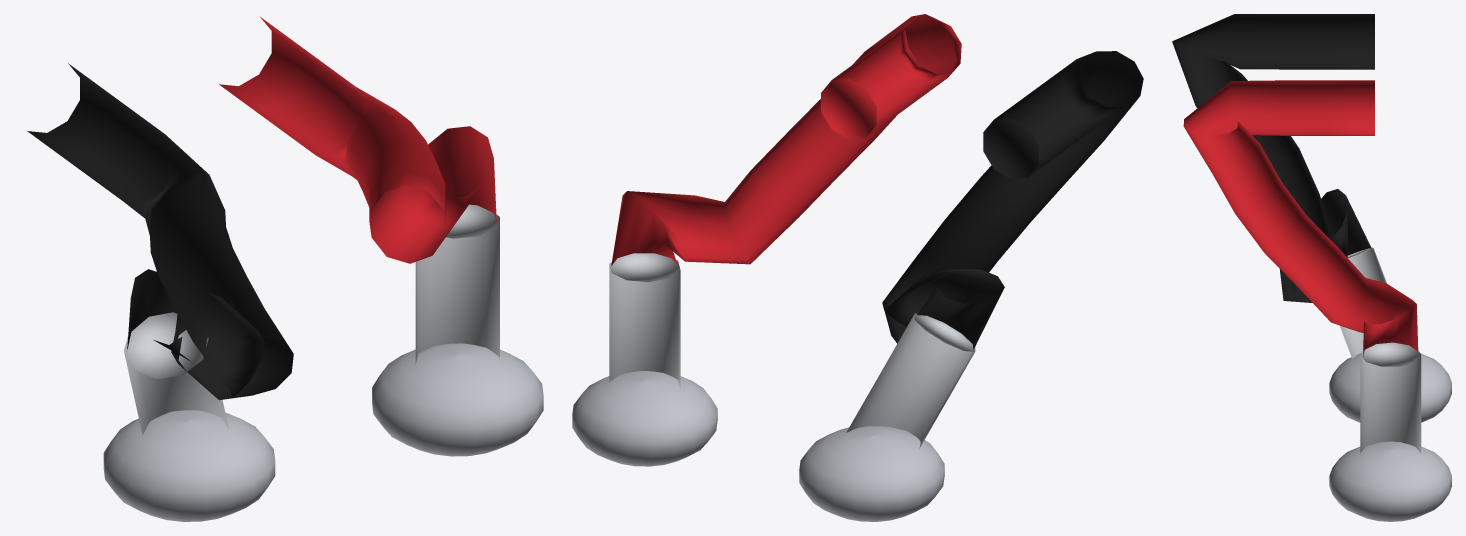
File: body.glb
The picture shows the model from 3 angles, left to right: view 1: azimuth 30°, elevation 25°; view 2: azimuth 150°, elevation 25°; view 3: azimuth 270°, elevation 25°; orthographic projection. The views are drawn at different scales.
Visible parts, largest first — view 1: conductor_p2, conductor_p1, end_board_joint_p1, end_board_joint_p2, end_board_tip_p1, end_board_tip_p2; view 2: conductor_p1, conductor_p2, end_board_joint_p2, end_board_joint_p1, end_board_tip_p2, end_board_tip_p1; view 3: conductor_p1, conductor_p2, end_board_joint_p1, end_board_tip_p1, end_board_joint_p2, end_board_tip_p2.
Part boxes in pixels (x1,y1,x2,y2): conductor_p2: (27, 63, 293, 400); conductor_p1: (219, 17, 496, 263); end_board_joint_p1: (372, 343, 543, 456); end_board_joint_p2: (103, 410, 275, 521); end_board_tip_p1: (415, 204, 499, 364); end_board_tip_p2: (124, 312, 228, 435); conductor_p1: (611, 14, 961, 265); conductor_p2: (882, 51, 1143, 349); end_board_joint_p2: (799, 426, 944, 521); end_board_joint_p1: (572, 370, 717, 466); end_board_tip_p2: (846, 313, 975, 448); end_board_tip_p1: (609, 253, 680, 388); conductor_p1: (1183, 80, 1418, 356); conductor_p2: (1172, 14, 1374, 302); end_board_joint_p1: (1329, 441, 1451, 521); end_board_tip_p1: (1360, 342, 1421, 453); end_board_joint_p2: (1329, 353, 1451, 422); end_board_tip_p2: (1340, 247, 1386, 358).
Bounding box in the file's own units: 0.0069 × 0.00615 × 0.00446.
